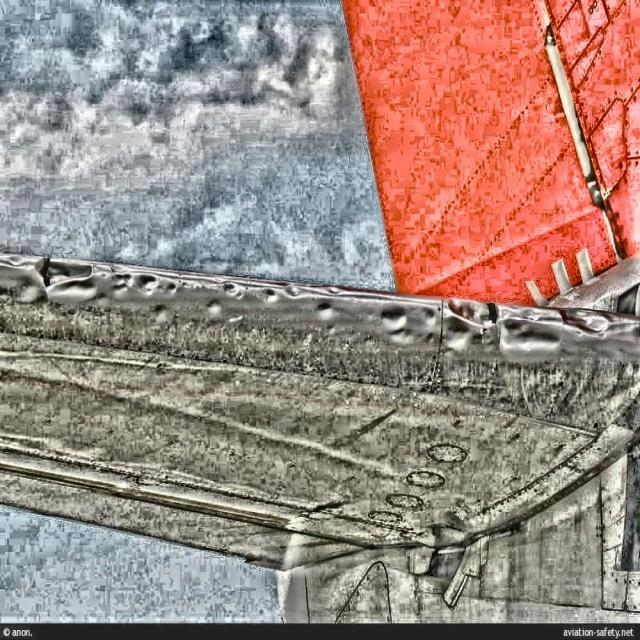dent: (32, 255, 608, 362)
